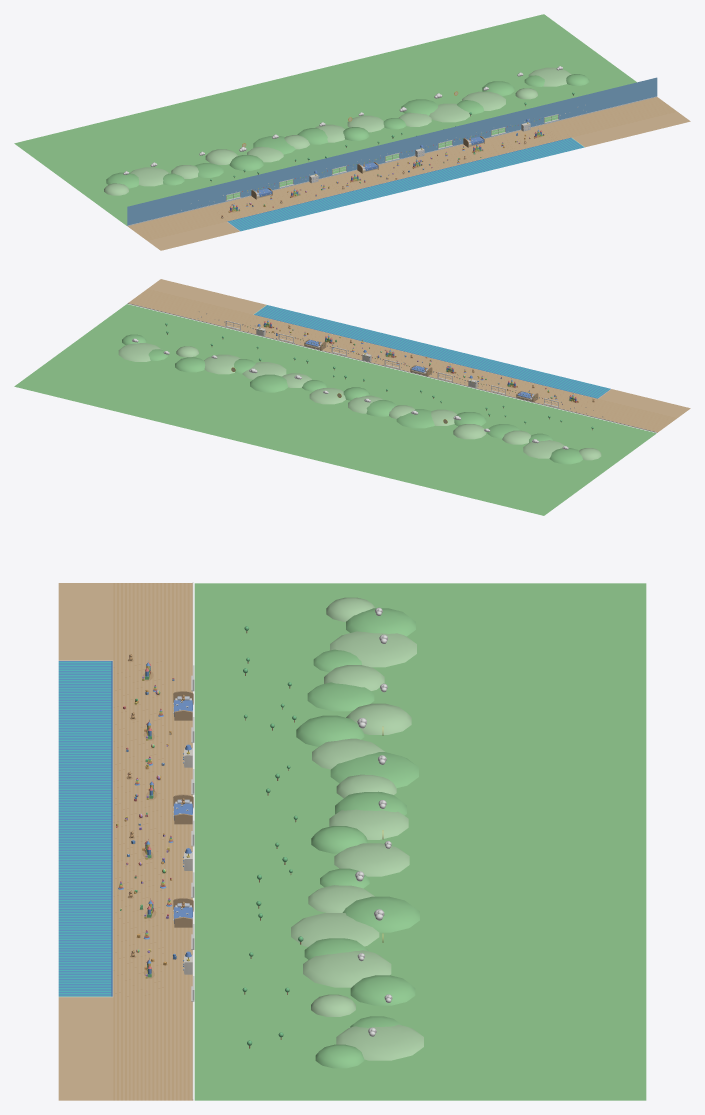
Rendered from toy-far.glb.
The picture shows the model from 3 angles, top to bottom: view 1: azimuth 30°, elevation 25°; view 2: azimuth 150°, elevation 25°; view 3: azimuth 270°, elevation 25°; orthographic projection. The views are drawn at different scales.
Parts seen in each view (by area): view 1: toy-far; view 2: toy-far; view 3: toy-far.
Boxes of the visible parts, box(x1,y1,x2,y2) form: toy-far: box(14, 14, 690, 250); toy-far: box(14, 279, 690, 515); toy-far: box(58, 582, 646, 1100).
Bounding box in the file's own units: 2000 × 70.46 × 960.
